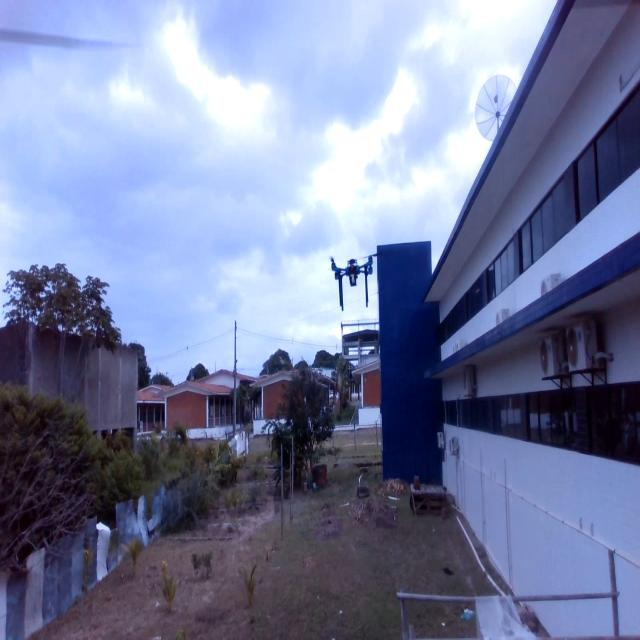-uav-: (315, 245, 398, 314)
